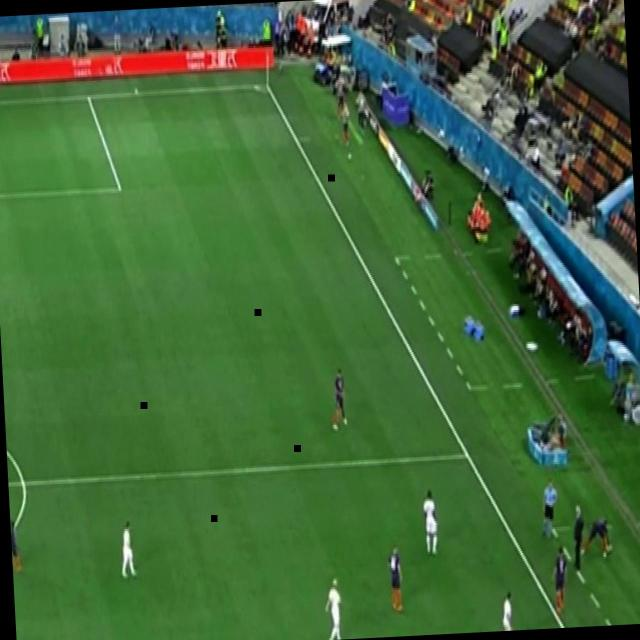ball: (348, 149, 352, 162)
player-white: (578, 514, 616, 564), (548, 543, 572, 621), (384, 544, 406, 616), (538, 476, 562, 542), (420, 487, 442, 558), (328, 365, 350, 435), (117, 518, 141, 582), (323, 574, 346, 640), (10, 516, 26, 578), (497, 588, 515, 631)
